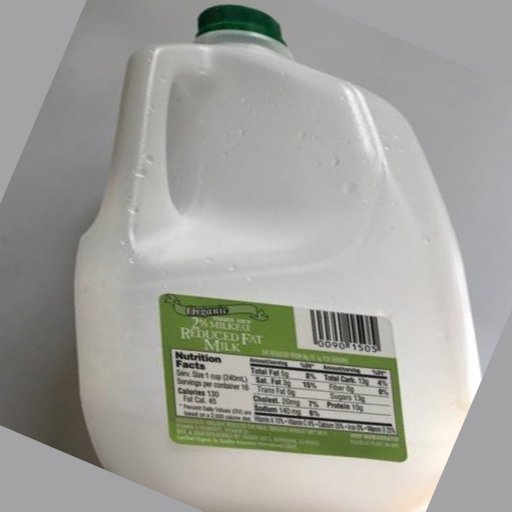Plastic_1: (79, 4, 482, 511)
